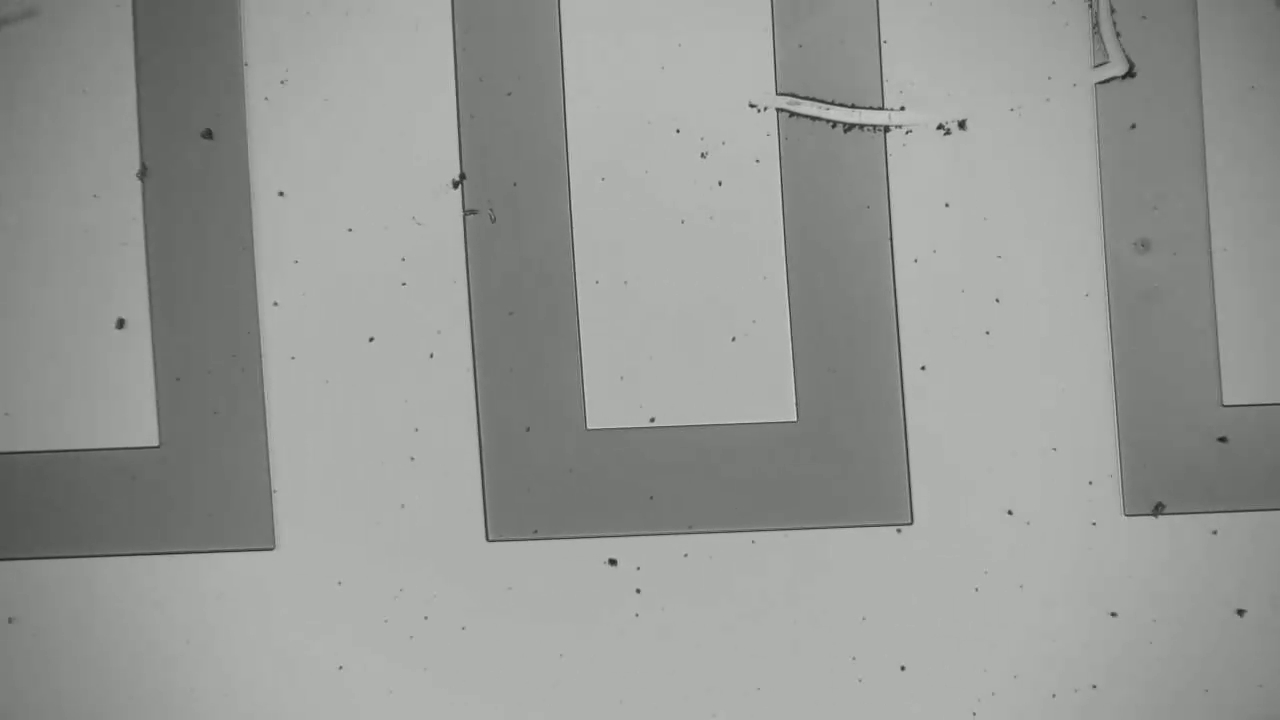Short_circuit: (751, 71, 912, 151)
